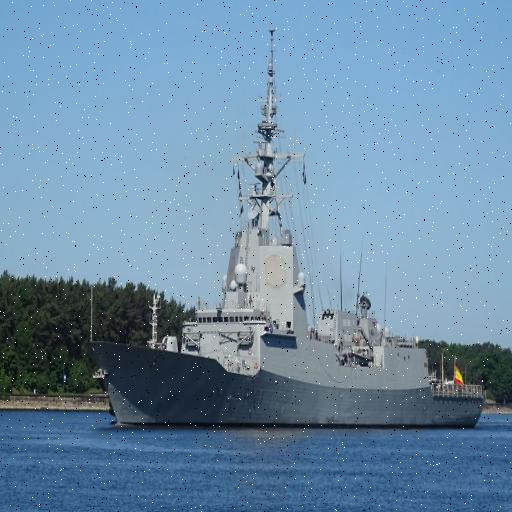Fragata: (89, 27, 489, 436)
